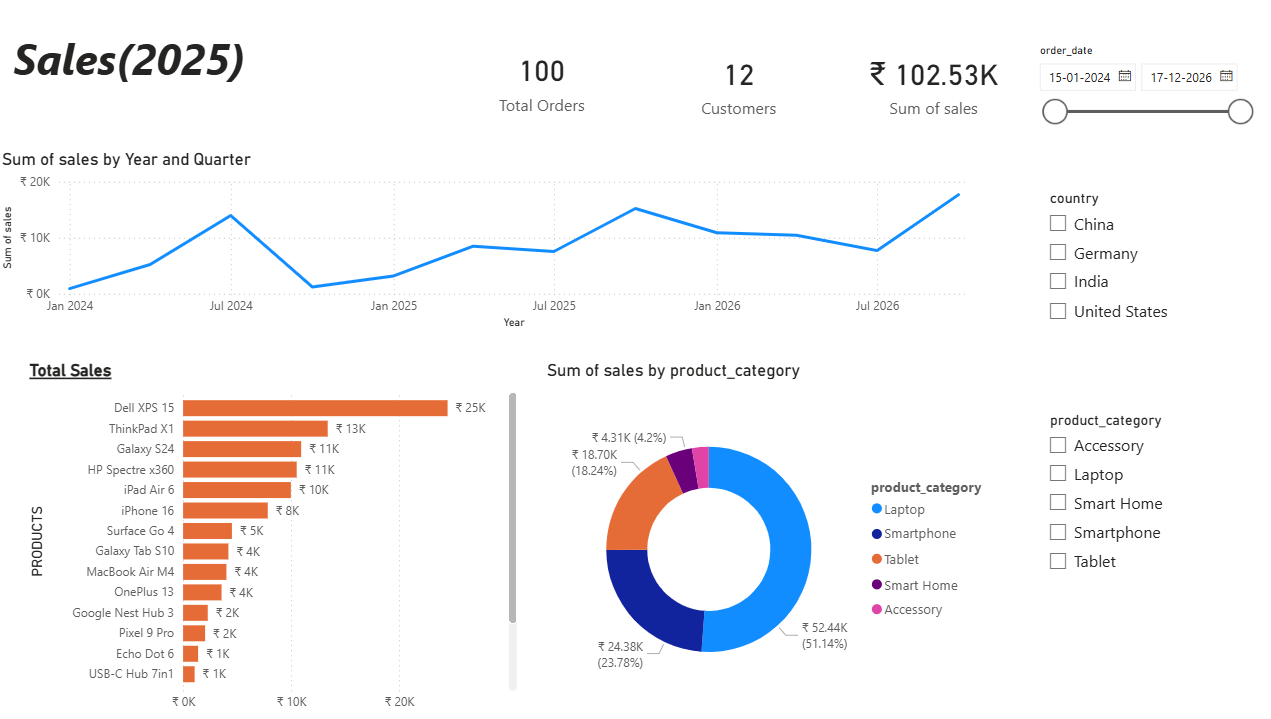

What the dashboard file says about the page in this screenshot:
{"tool":"powerbi","page":{"name":"Page 1","canvas":[1280,720],"ordinal":0},"visuals":[{"type":"barChart","title":"Total Sales","fields":{"Category":["orders.product_name"],"Y":["Sum(orders.sales)"]},"box":[27.5,360,497.5,360],"z":0},{"type":"donutChart","fields":{"Y":["Sum(orders.sales)"],"Category":["orders.product_category"]},"box":[545,360,460,360],"z":1},{"type":"card","fields":{"Values":["Count(orders.order_id)"]},"box":[433.8,0,222.5,160],"z":2},{"type":"card","fields":{"Values":["Count(orders.customer_id)"]},"box":[640,0,203.8,167.5],"z":3},{"type":"card","fields":{"Values":["Sum(orders.sales)"]},"box":[843.8,0,186.2,167.5],"z":4},{"type":"lineChart","fields":{"Category":["orders.order_date.Variation.Date Hierarchy.Year","orders.order_date.Variation.Date Hierarchy.Quarter","orders.order_date.Variation.Date Hierarchy.Month","orders.order_date.Variation.Date Hierarchy.Day"],"Y":["Sum(orders.sales)"]},"box":[0,148.8,988.8,185],"z":5},{"type":"slicer","fields":{"Values":["customers.country"]},"box":[1040,185,240,221.2],"z":6},{"type":"slicer","fields":{"Values":["orders.order_date"]},"box":[1030,38.8,235,137.5],"z":8},{"type":"slicer","fields":{"Values":["orders.product_category"]},"box":[1040,406.2,240,202.5],"z":9},{"type":"textbox","box":[11.2,23.8,313.8,107.5],"z":10}]}

Visuals, with their boxes in screenshot pixels (x1, y1, x2, y2), scaled from the page's 1280x720 canvas onto the 1271x719 screenshot:
"Total Sales" barChart: [27, 360, 521, 718]
donutChart - Sum(orders.sales) x orders.product_category: [541, 360, 998, 718]
card - Count(orders.order_id): [431, 0, 652, 160]
card - Count(orders.customer_id): [636, 0, 838, 167]
card - Sum(orders.sales): [838, 0, 1023, 167]
lineChart - orders.order_date.Variation.Date Hierarchy.Year x orders.order_date.Variation.Date Hierarchy.Quarter: [0, 149, 982, 333]
slicer - customers.country: [1033, 185, 1270, 406]
slicer - orders.order_date: [1023, 39, 1256, 176]
slicer - orders.product_category: [1033, 406, 1270, 608]
textbox: [11, 24, 323, 131]
